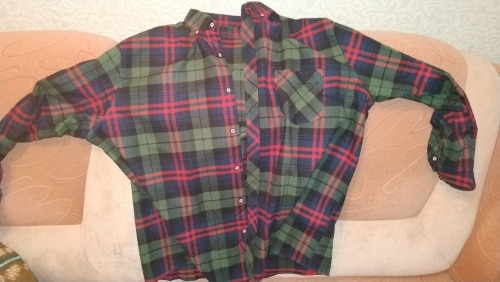shirts: (7, 2, 476, 282)
